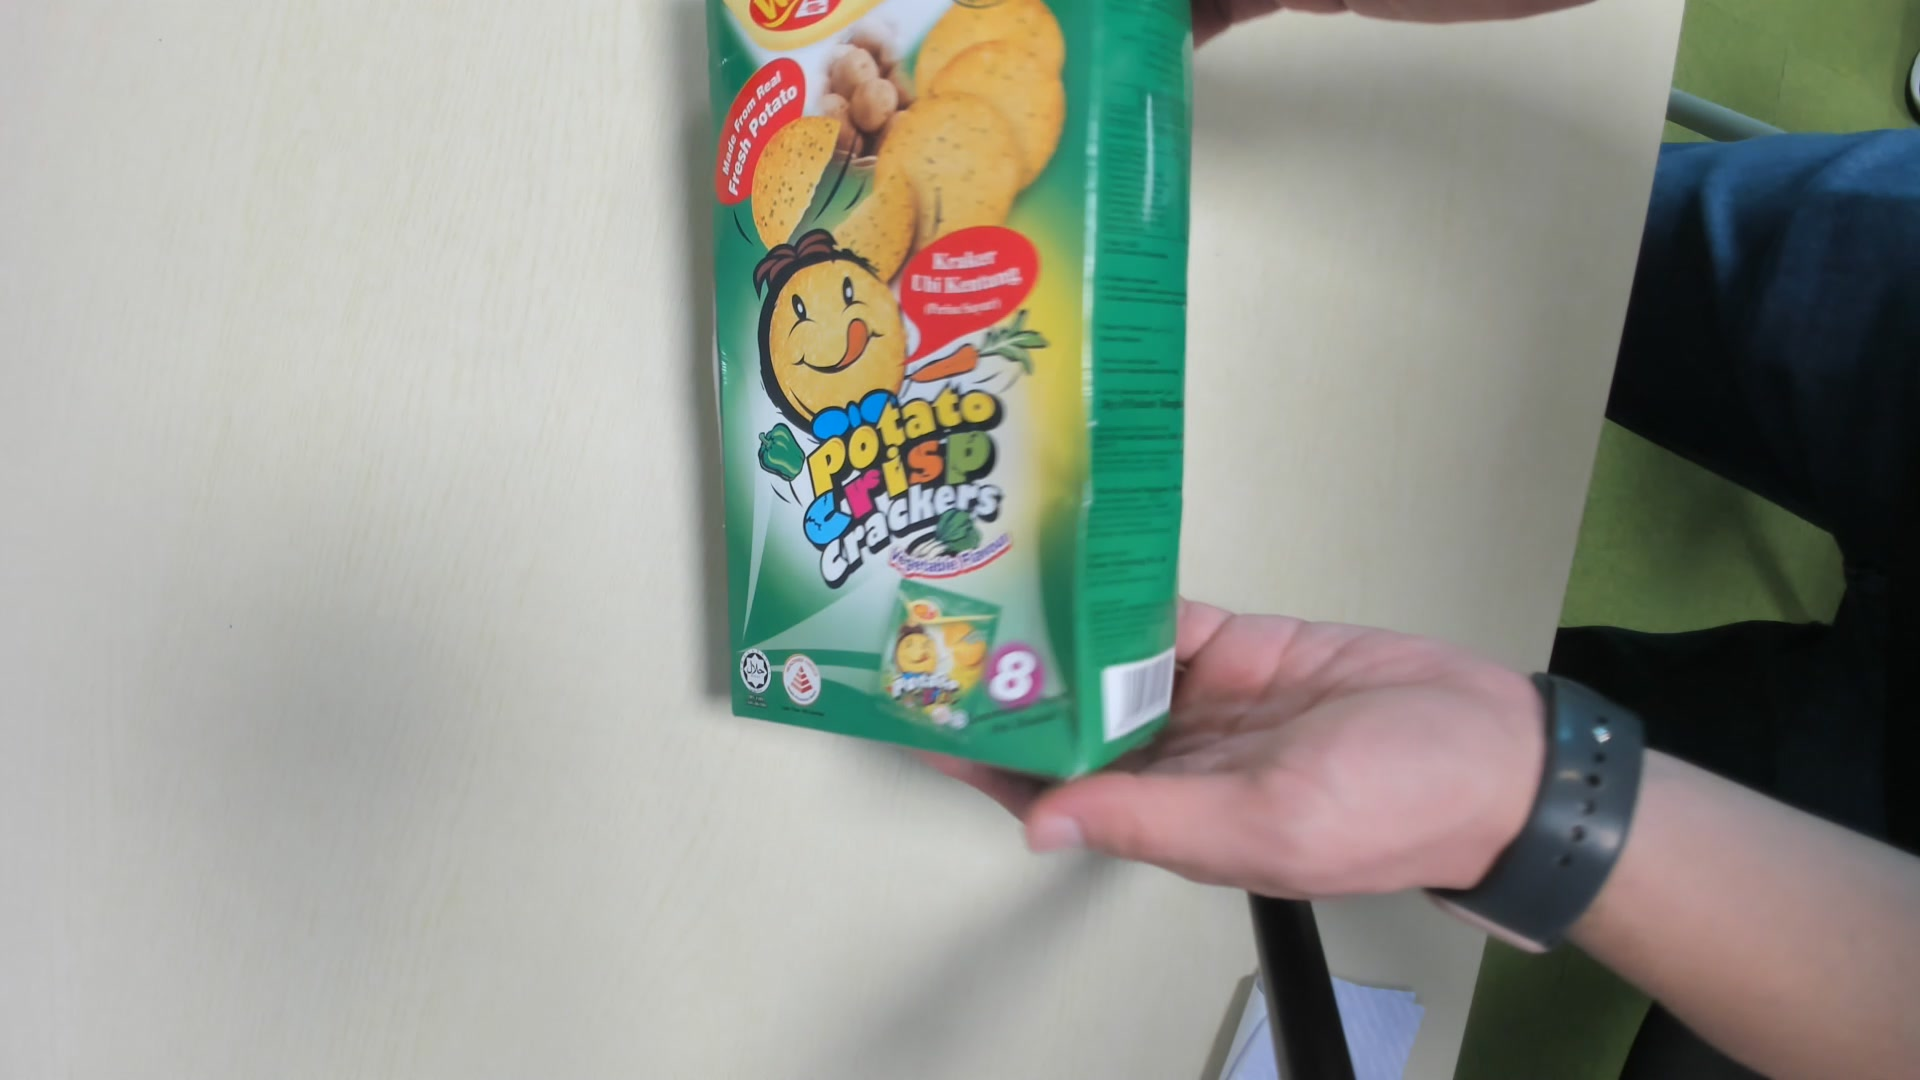PotatoChipsKeropok_100-200g_Halal_Healthy: (707, 1, 1193, 783)
